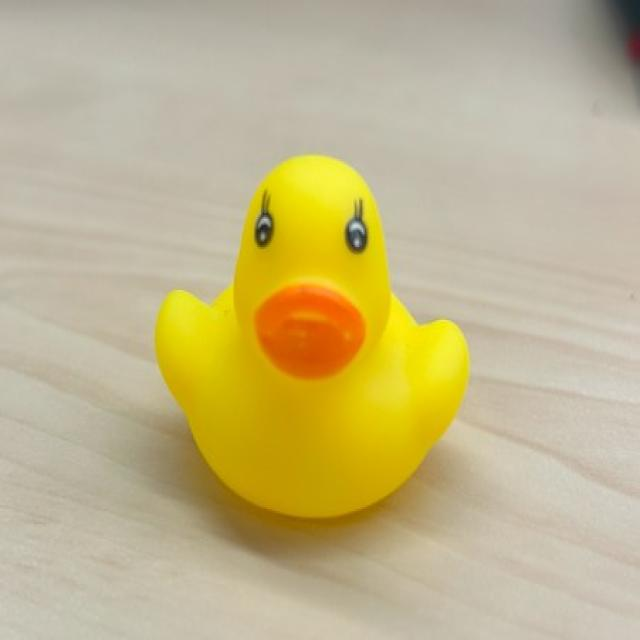duck_regular: (149, 146, 484, 549)
